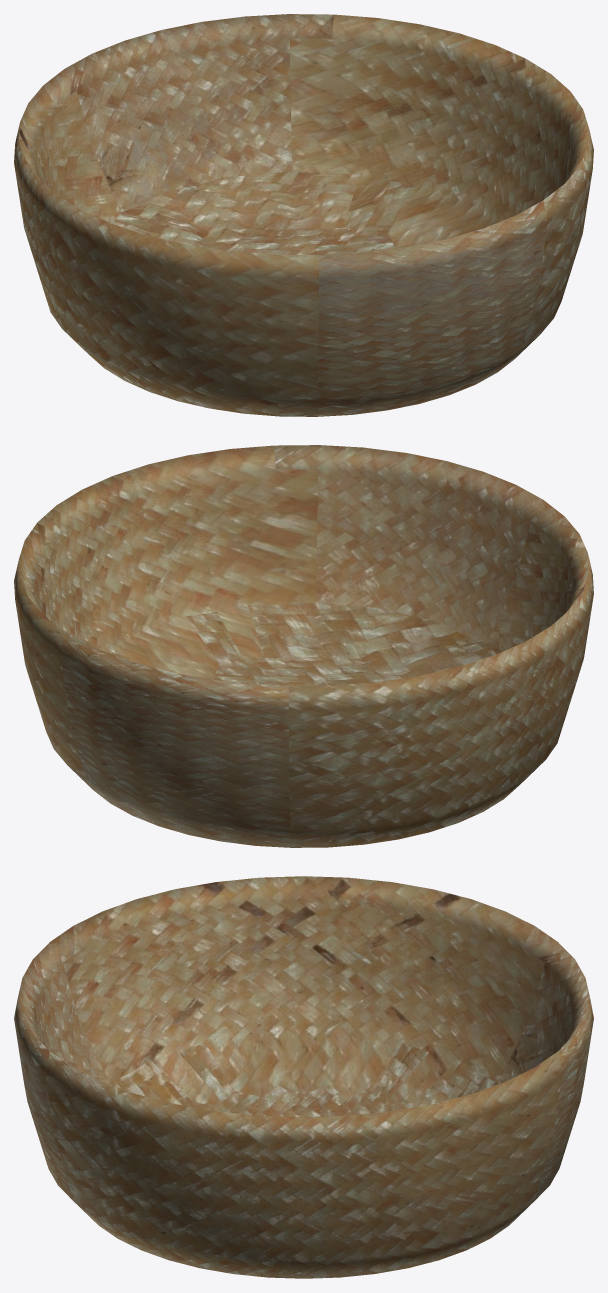
Rendered from basket.fbx.
The picture shows the model from 3 angles, top to bottom: view 1: azimuth 30°, elevation 25°; view 2: azimuth 150°, elevation 25°; view 3: azimuth 270°, elevation 25°; orthographic projection.
Parts seen in each view (by area): view 1: basket; view 2: basket; view 3: basket.
Part boxes in pixels (x1=…): basket: x1=14, y1=14, x2=593, y2=416; basket: x1=14, y1=445, x2=593, y2=847; basket: x1=14, y1=876, x2=593, y2=1278.
Size of the model in its own units: 1.93 by 0.7167 by 1.93.
Materials: 1 (1 with a texture image).
